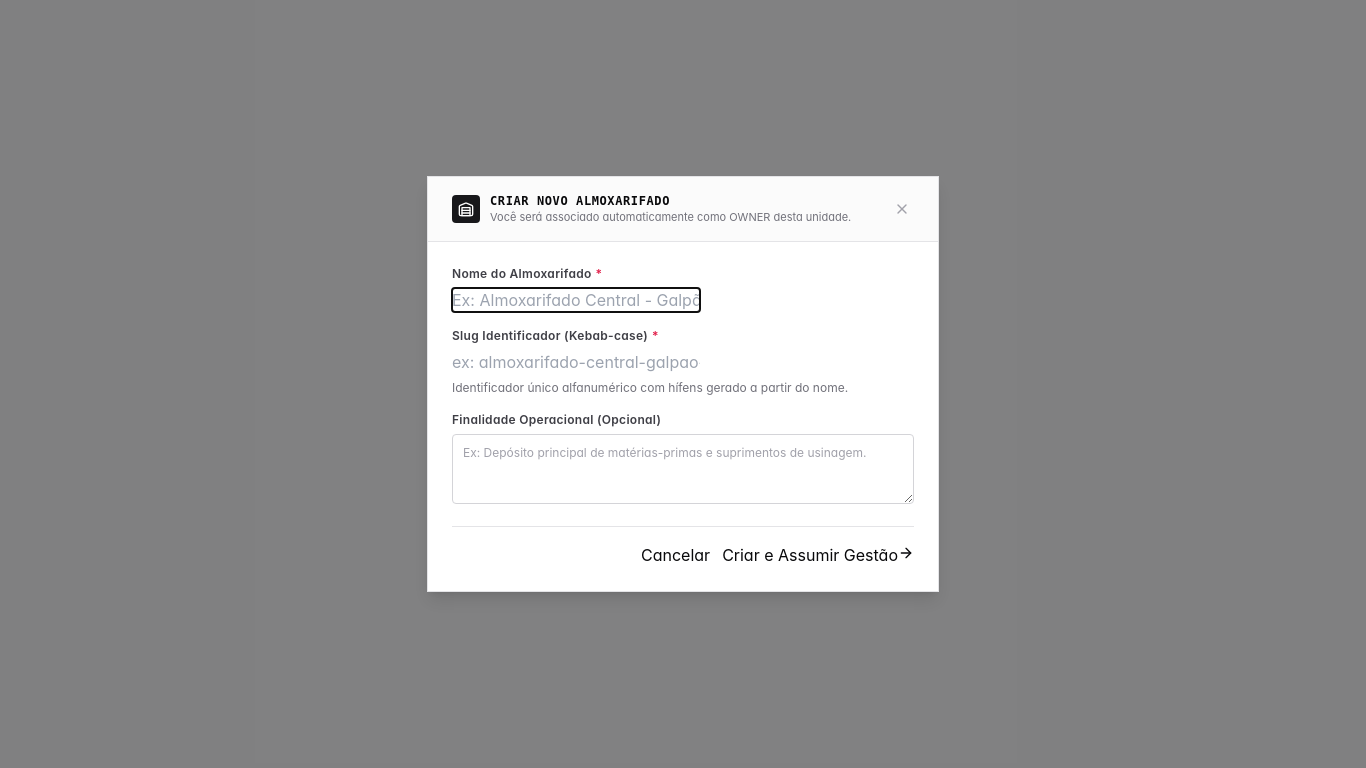
CreateTenantModal (FT-07) › trata erro 409 Conflict para slug repetido com feedback direto no input de slug
The width and height of the screenshot is (1366, 768).
Type "Matriz" into the field labelled "Nome do Almoxarifado*" at (576, 300), box [452, 288, 700, 312]
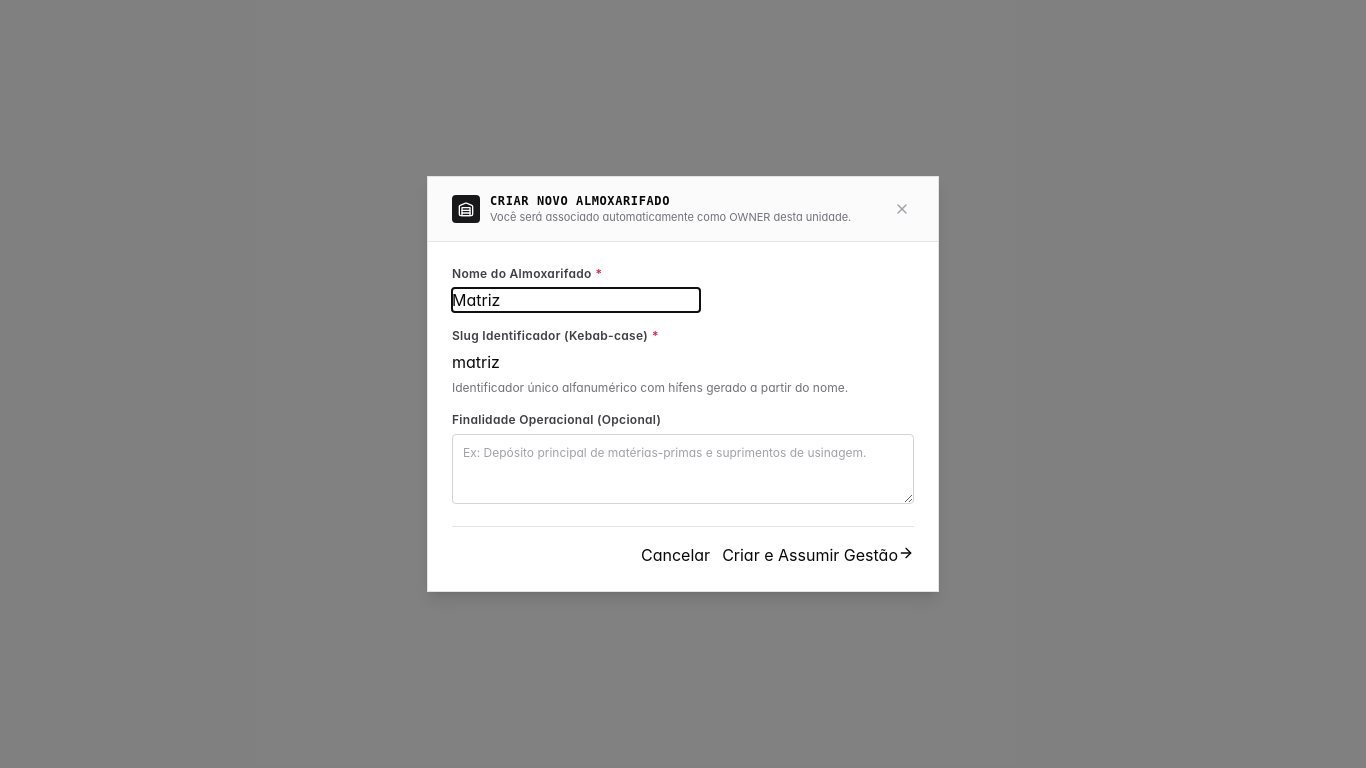
Click the button "Criar e Assumir Gestão" at (818, 555), box [722, 543, 914, 567]
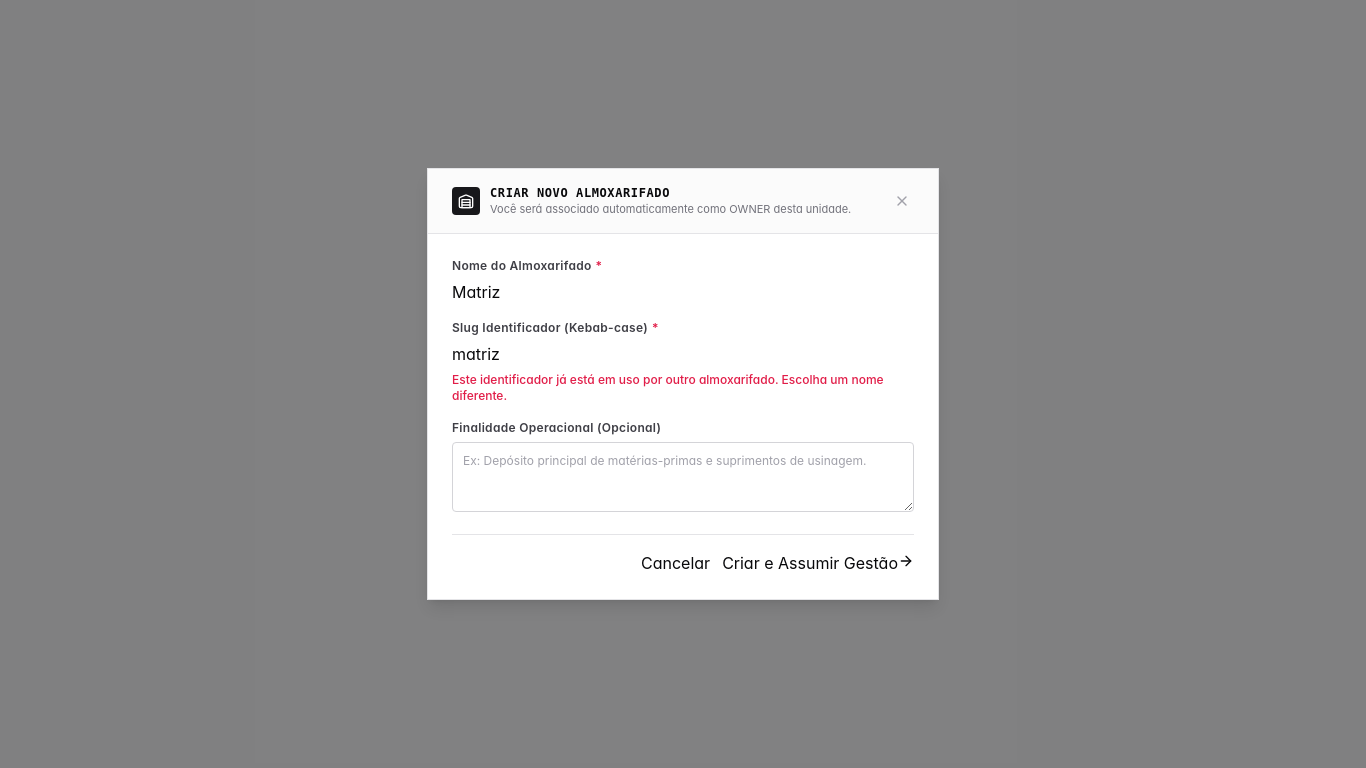
Check: the text "Este identificador já está em uso por outro almoxarifado. Escolha um nome diferente." is shown, box [452, 372, 884, 403]
